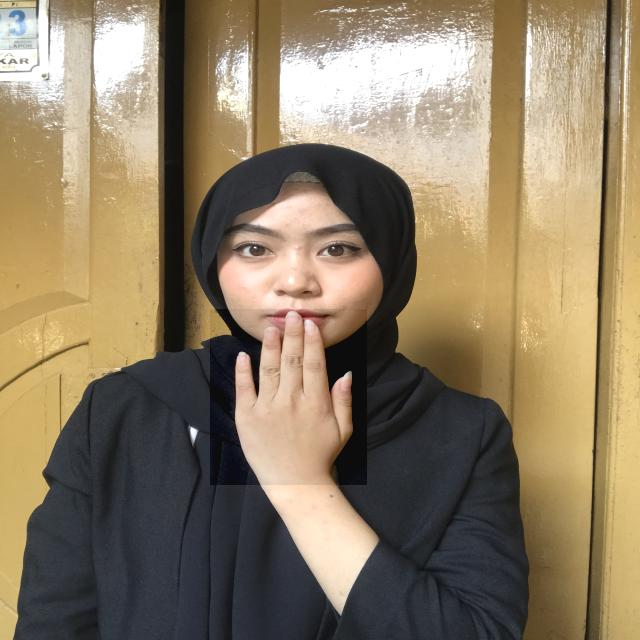ganteng: (210, 309, 367, 485)
